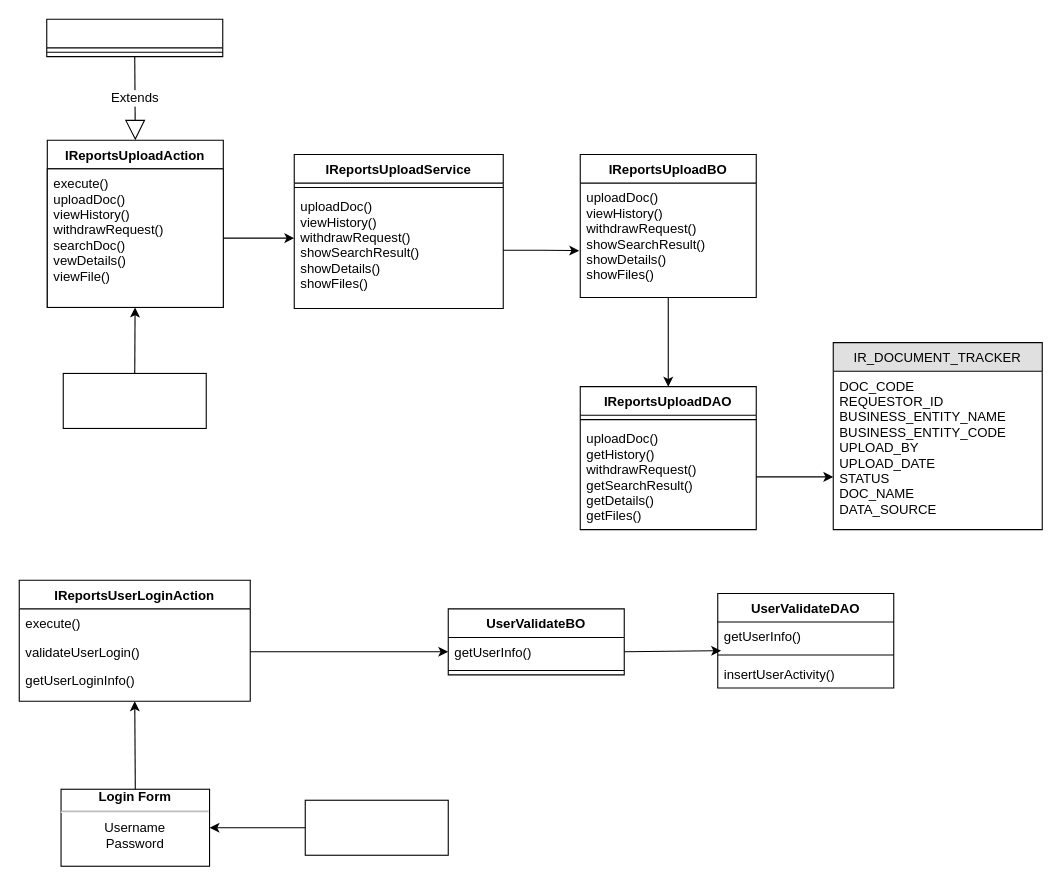
This 1062x886 diagram has some shape labels left out. Here are the shapes that lost their labels. From the top down, the centre of each, then its label:
At point (134, 37): "ActionSupport".
At point (134, 400): "Login to IReports".
At point (376, 827): "Invoke IReports JSP".
